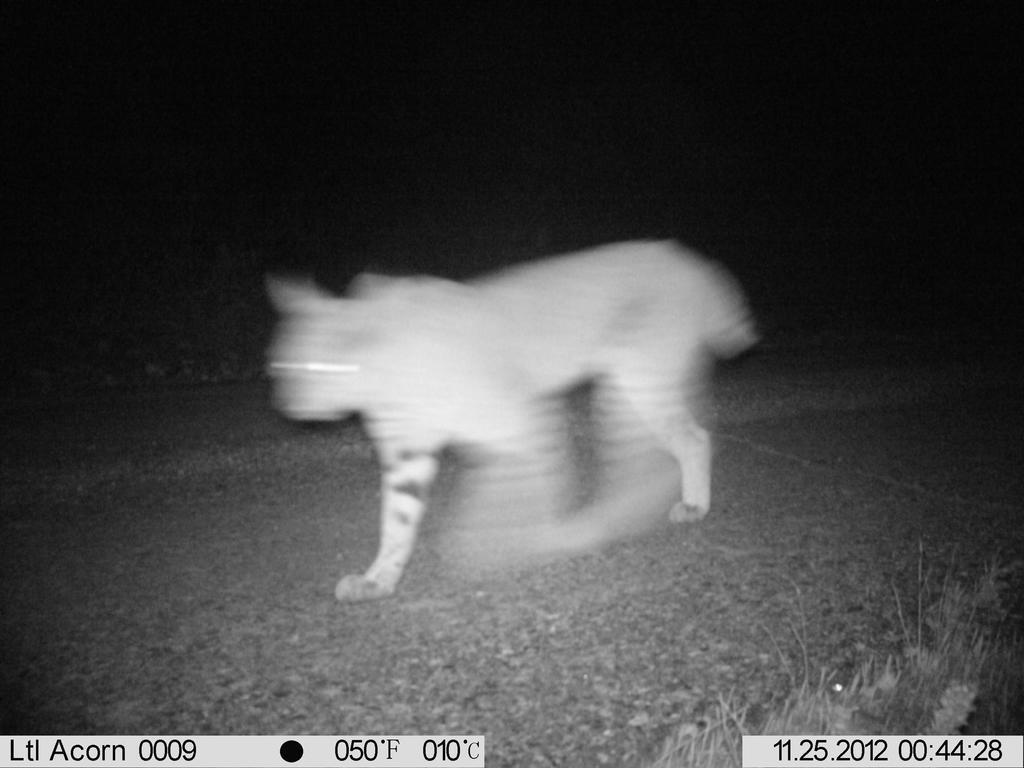bobcat: (255, 231, 766, 607)
